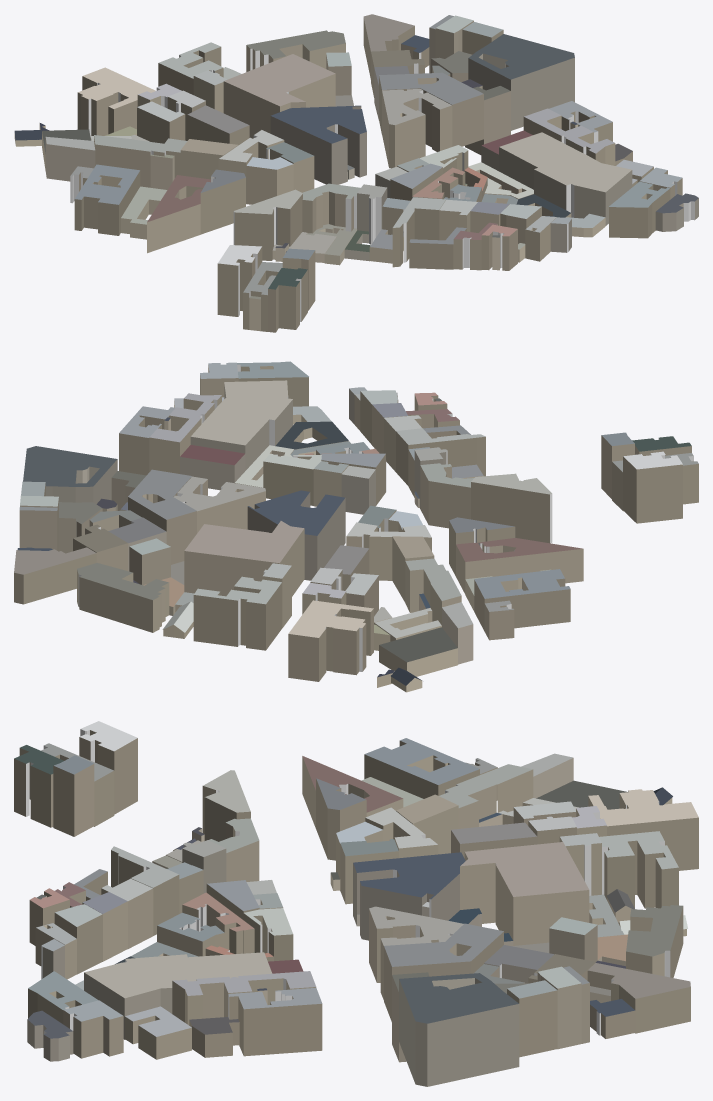
The picture shows the model from 3 angles, top to bottom: view 1: azimuth 30°, elevation 25°; view 2: azimuth 150°, elevation 25°; view 3: azimuth 270°, elevation 25°; orthographic projection. The views are drawn at different scales.
Parts seen in each view (by area): view 1: tuile; view 2: tuile; view 3: tuile.
Part boxes in pixels (box(x1,y1,x2,y2)): tuile: box(14, 14, 698, 332); tuile: box(14, 361, 698, 692); tuile: box(14, 721, 698, 1086).
Bounding box in the file's own units: 285 × 40.07 × 271.
